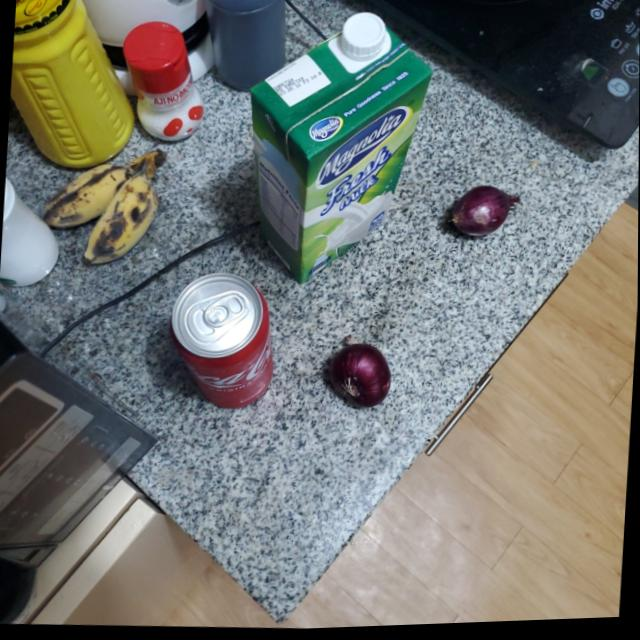coke: (165, 271, 282, 417)
milk: (240, 6, 434, 292)
onion: (439, 185, 523, 248), (326, 344, 396, 413)
